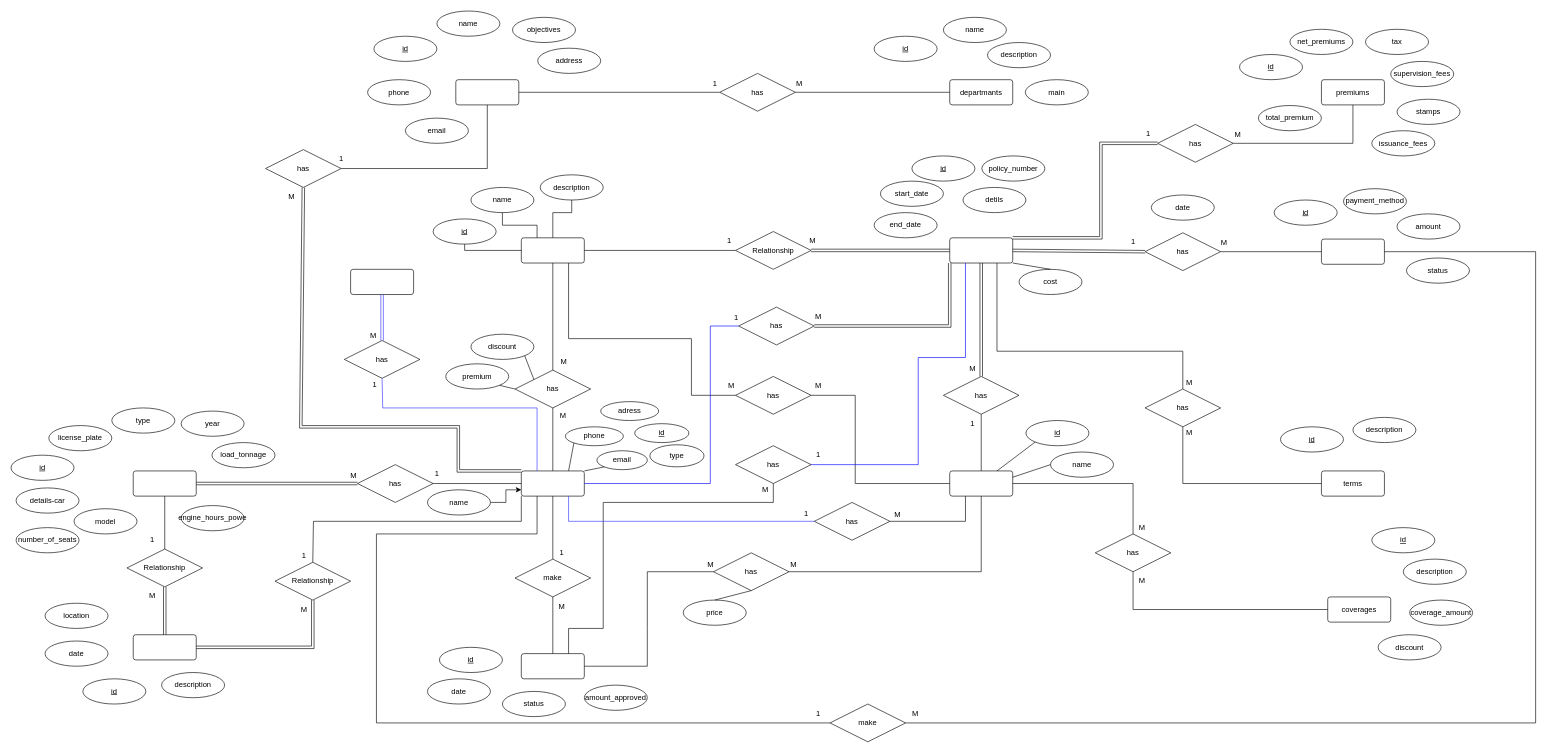
Image size: 1547x753. Some labels were removed from this diagram. The shapes that lost their labels are listed below. From the top down, each one's centre as x and y in pixels, then its label:
At pixel 487 92: "company".
At pixel 552 250: "insurance_type".
At pixel 981 250: "policies".
At pixel 1352 251: "payment".
At pixel 382 282: "dependents".
At pixel 164 483: "car".
At pixel 552 483: "user".
At pixel 981 483: "insurance".
At pixel 164 647: "accident".
At pixel 552 666: "claims".
